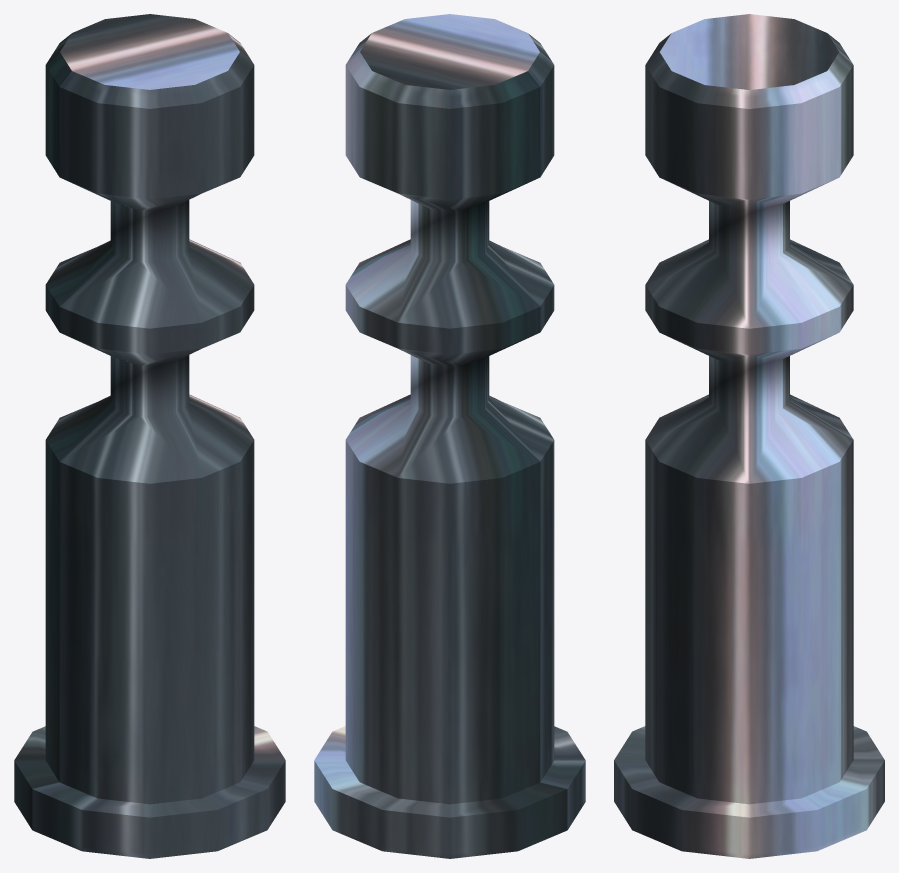
File: PegMetalT10.fbx
3 views of the same model, side by side, from view 1: azimuth 30°, elevation 25°; view 2: azimuth 150°, elevation 25°; view 3: azimuth 270°, elevation 25° (orthographic).
Visible parts, largest first — view 1: PegMetalT10; view 2: PegMetalT10; view 3: PegMetalT10.
Boxes of the visible parts, left/top/right/bottom form: PegMetalT10: left=14, top=14, right=285, bottom=858; PegMetalT10: left=314, top=14, right=585, bottom=858; PegMetalT10: left=614, top=14, right=884, bottom=858.
Size of the model in its own units: 0.9769 by 2.97 by 0.9742.
Materials: 1 (1 with a texture image).
